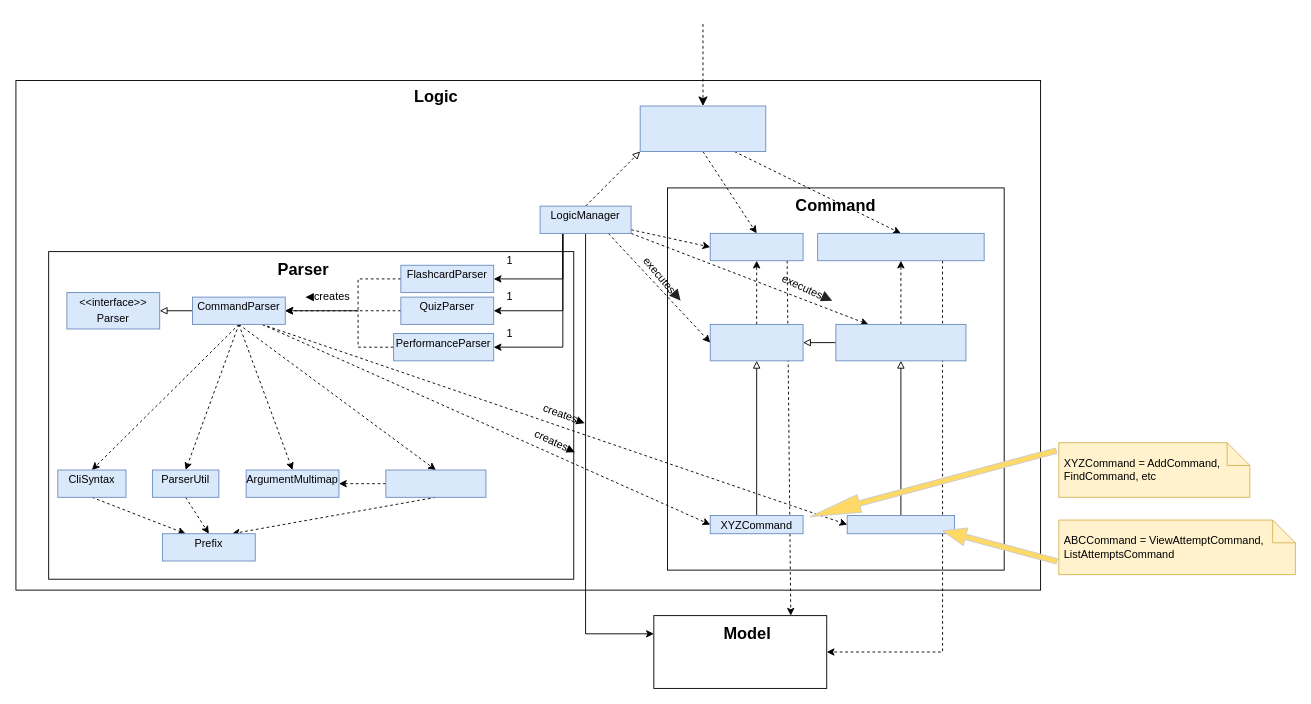
This 1311x704 diagram has some shape labels left out. The centre of each missing label's shape, as x and y in pixels:
"<<interface>> Logic" goes at (x=702, y=128).
"ABCCommand" goes at (x=900, y=524).
"ArgumentTokenizer" goes at (x=435, y=483).
"CommandResult" goes at (x=756, y=247).
"PerformanceCommandResult" goes at (x=900, y=247).
"{abstract} Command" goes at (x=756, y=342).
"{abstract} PerformanceCommand" goes at (x=900, y=342).
